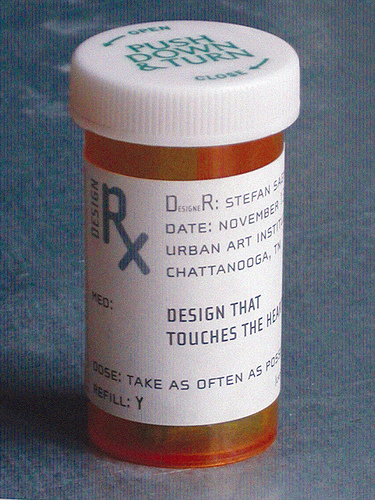pill bottle: (71, 19, 298, 468)
